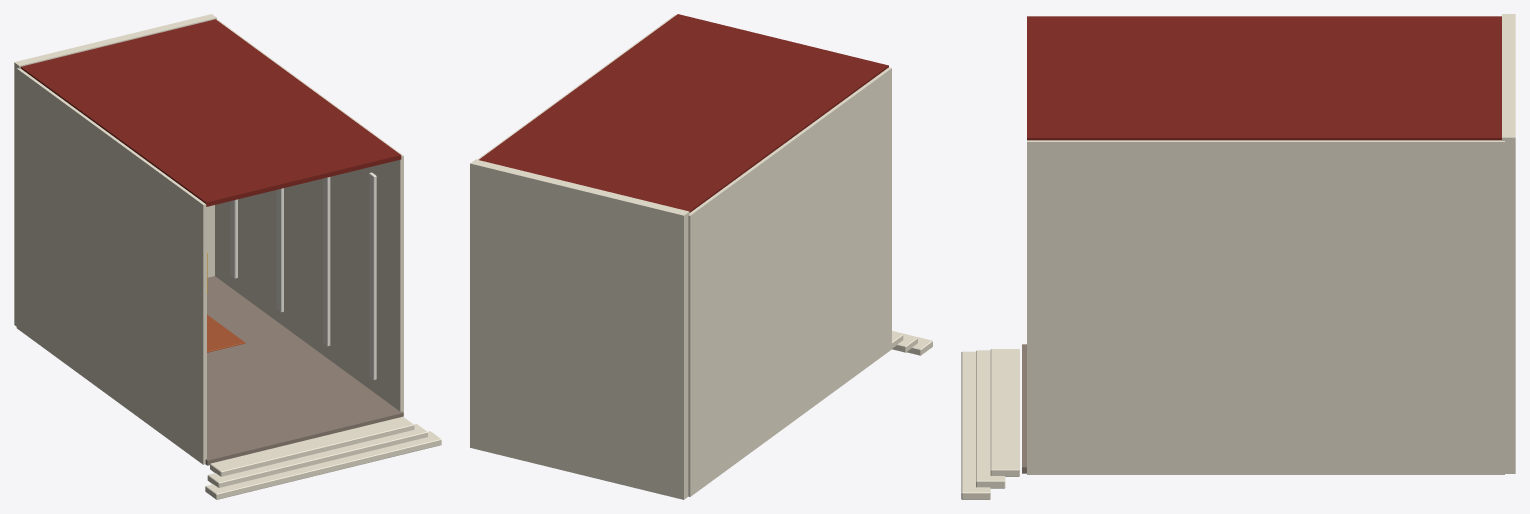
Rendered from HNP_Chedi_M04_PrayerDepth_v004.fbx.
3 renders of one model, left to right at view 1: azimuth 30°, elevation 25°; view 2: azimuth 150°, elevation 25°; view 3: azimuth 270°, elevation 25°, orthographic. The views are drawn at different scales.
Parts seen in each view (by area): view 1: HNP_Chedi_v004_M04_PrayerDepth__HNP_Chedi_Ivory, HNP_Chedi_v004_M04_PrayerDepth__HNP_Chedi_RedInterior, HNP_Chedi_v004_M04_PrayerDepth__HNP_Chedi_Stone, HNP_Chedi_v004_M04_PrayerDepth__HNP_Chedi_White, HNP_Chedi_v004_M04_PrayerDepth__HNP_Chedi_Terracotta; view 2: HNP_Chedi_v004_M04_PrayerDepth__HNP_Chedi_Ivory, HNP_Chedi_v004_M04_PrayerDepth__HNP_Chedi_RedInterior; view 3: HNP_Chedi_v004_M04_PrayerDepth__HNP_Chedi_Ivory, HNP_Chedi_v004_M04_PrayerDepth__HNP_Chedi_RedInterior, HNP_Chedi_v004_M04_PrayerDepth__HNP_Chedi_Stone.
Boxes of the visible parts, <box> form: HNP_Chedi_v004_M04_PrayerDepth__HNP_Chedi_Ivory: <box>14,14,441,499</box>; HNP_Chedi_v004_M04_PrayerDepth__HNP_Chedi_RedInterior: <box>20,19,401,206</box>; HNP_Chedi_v004_M04_PrayerDepth__HNP_Chedi_Stone: <box>205,276,403,465</box>; HNP_Chedi_v004_M04_PrayerDepth__HNP_Chedi_White: <box>230,172,376,379</box>; HNP_Chedi_v004_M04_PrayerDepth__HNP_Chedi_Terracotta: <box>207,314,245,352</box>; HNP_Chedi_v004_M04_PrayerDepth__HNP_Chedi_Ivory: <box>470,15,932,499</box>; HNP_Chedi_v004_M04_PrayerDepth__HNP_Chedi_RedInterior: <box>479,14,888,212</box>; HNP_Chedi_v004_M04_PrayerDepth__HNP_Chedi_Ivory: <box>961,14,1515,499</box>; HNP_Chedi_v004_M04_PrayerDepth__HNP_Chedi_RedInterior: <box>1027,16,1501,140</box>; HNP_Chedi_v004_M04_PrayerDepth__HNP_Chedi_Stone: <box>1022,344,1026,473</box>.
Size of the model in its own units: 8.45 by 9.89 by 14.03.
